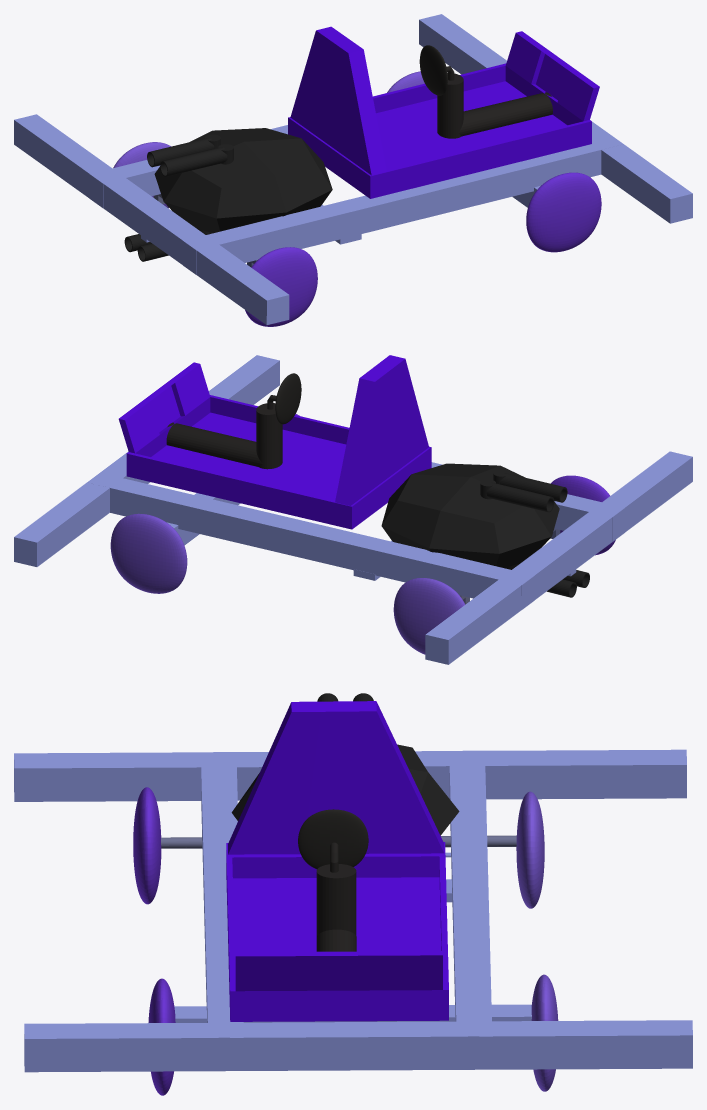
Rendered from Mark.fbx.
3 renders of one model, top to bottom at view 1: azimuth 30°, elevation 25°; view 2: azimuth 150°, elevation 25°; view 3: azimuth 270°, elevation 25°, orthographic. The views are drawn at different scales.
Visible parts, largest first — view 1: Cube, Cube.008, Cube.007, Cube.001, Cube.006, Cylinder.010, Cylinder.009, Cube.009, Cylinder.005, Cylinder.006, Cube.005; view 2: Cube, Cube.008, Cube.007, Cube.004, Cube.005, Cylinder.010, Cylinder.009, Cylinder.006, Cube.009, Cube.006, Cylinder.005; view 3: Cube, Cube.008, Cube.009, Cube.005, Cube.006, Cylinder.009, Cube.007, Cube.004, Cube.001, Cylinder, Cylinder.010.
Part boxes in pixels (bbox=[...]): Cube: bbox=[14, 14, 692, 324]; Cube.008: bbox=[288, 26, 599, 198]; Cube.007: bbox=[154, 128, 332, 233]; Cube.001: bbox=[526, 172, 601, 252]; Cube.006: bbox=[245, 247, 317, 326]; Cylinder.010: bbox=[459, 92, 552, 136]; Cylinder.009: bbox=[437, 73, 463, 138]; Cube.009: bbox=[419, 45, 447, 95]; Cylinder.005: bbox=[160, 147, 227, 176]; Cylinder.006: bbox=[147, 137, 214, 167]; Cube.005: bbox=[113, 142, 170, 208]; Cube: bbox=[14, 355, 692, 664]; Cube.008: bbox=[118, 355, 431, 529]; Cube.007: bbox=[381, 463, 559, 568]; Cube.004: bbox=[110, 513, 187, 593]; Cube.005: bbox=[393, 578, 465, 654]; Cylinder.010: bbox=[166, 422, 262, 466]; Cylinder.009: bbox=[256, 403, 282, 469]; Cylinder.006: bbox=[486, 482, 554, 512]; Cube.009: bbox=[275, 373, 301, 424]; Cube.006: bbox=[551, 475, 615, 555]; Cylinder.005: bbox=[500, 473, 567, 502]; Cube: bbox=[14, 749, 692, 1072]; Cube.008: bbox=[226, 701, 448, 1021]; Cube.009: bbox=[298, 809, 368, 869]; Cube.005: bbox=[516, 791, 544, 908]; Cube.006: bbox=[133, 787, 161, 904]; Cylinder.009: bbox=[316, 864, 356, 937]; Cube.007: bbox=[231, 744, 459, 835]; Cube.004: bbox=[531, 974, 558, 1091]; Cube.001: bbox=[148, 978, 175, 1095]; Cylinder: bbox=[161, 835, 516, 848]; Cylinder.010: bbox=[316, 929, 356, 951].
Bounding box in the file's own units: 383 × 170 × 378.
